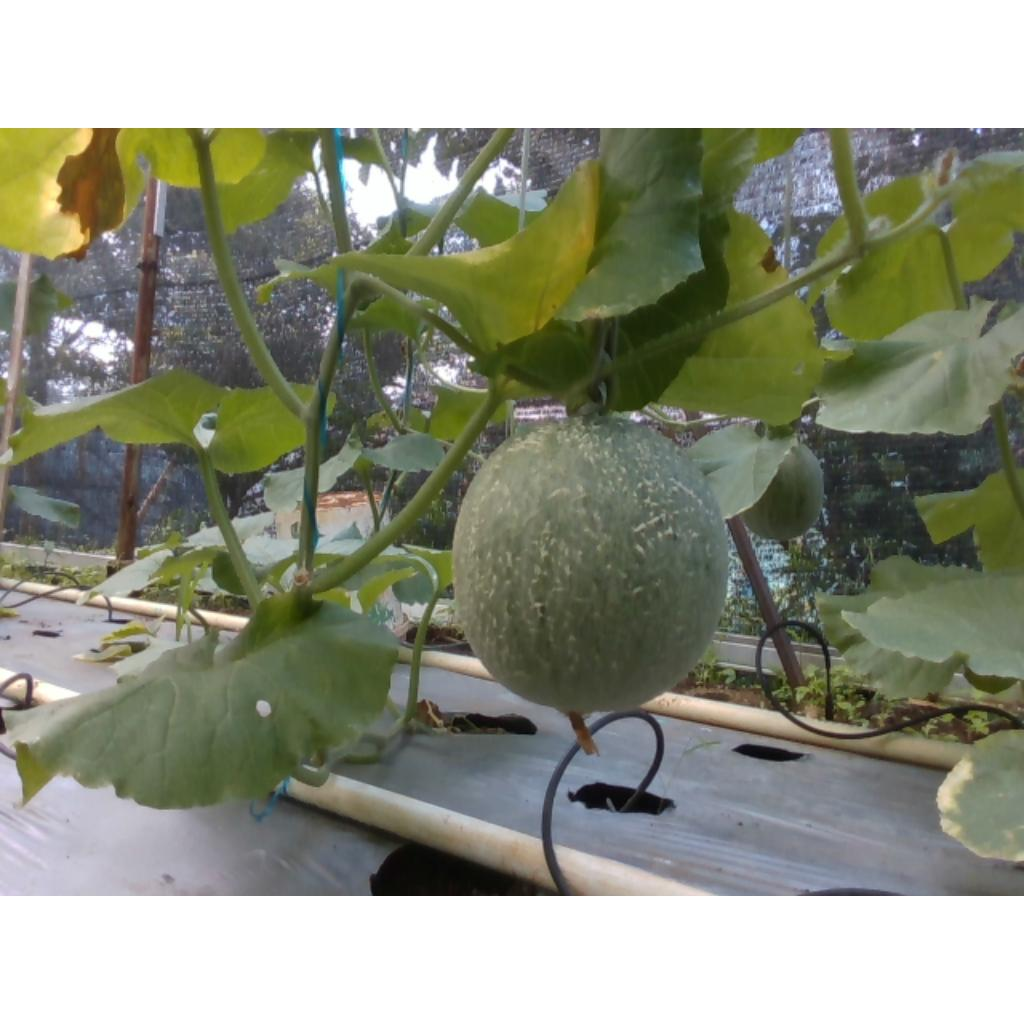melon: (454, 416, 730, 713)
